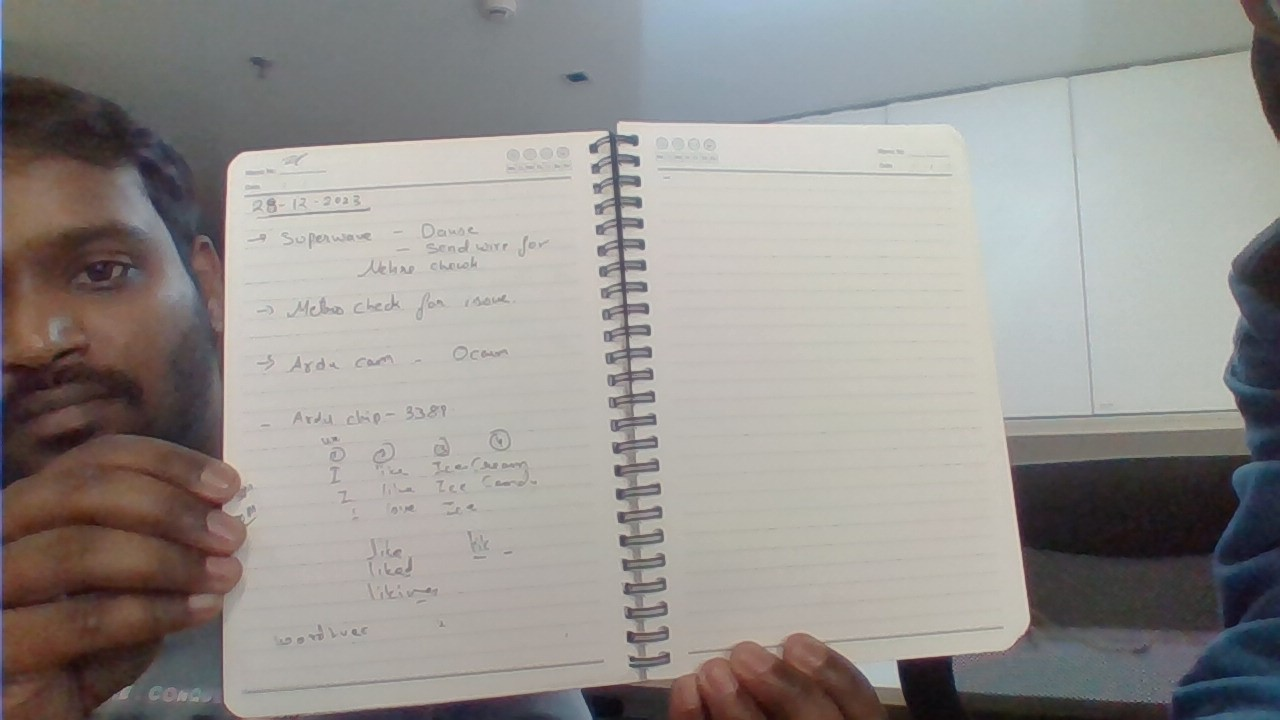notebook: (212, 128, 645, 716), (610, 117, 1044, 686)
